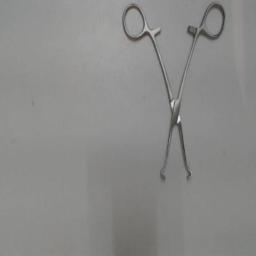Babcock Tissue Forceps: (118, 1, 228, 183)
